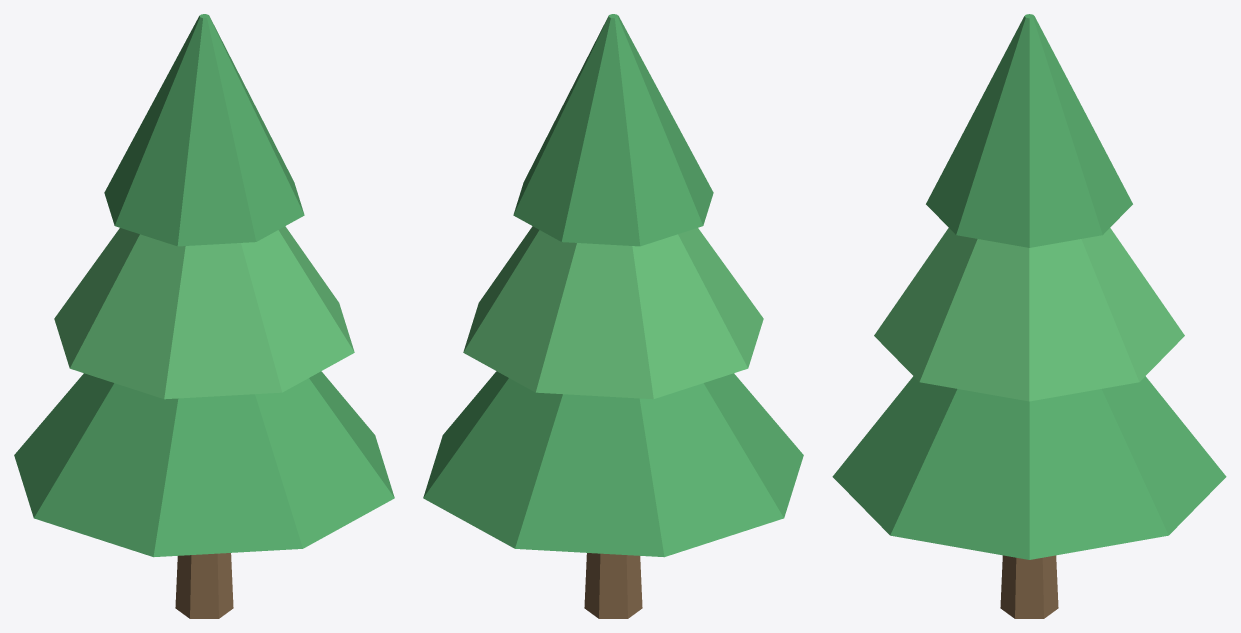
The model's file is tree.glb.
The picture shows the model from 3 angles, left to right: view 1: azimuth 30°, elevation 25°; view 2: azimuth 150°, elevation 25°; view 3: azimuth 270°, elevation 25°; orthographic projection.
Visible parts, largest first — view 1: Tree; view 2: Tree; view 3: Tree.
Part boxes in pixels (x1,y1,x2,y2): Tree: (14, 14, 394, 618); Tree: (423, 14, 803, 618); Tree: (832, 14, 1226, 618).
Bounding box in the file's own units: 3.8 × 6.3 × 3.8.
